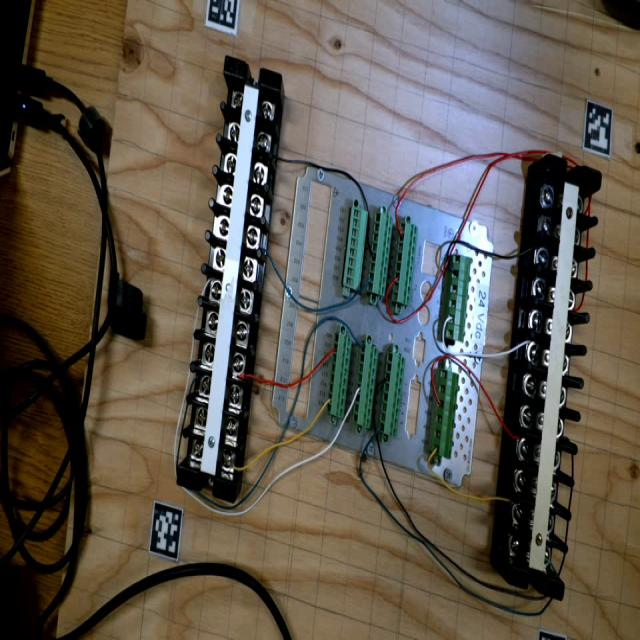Flathead_Block: (506, 154, 604, 601)
Phillips_Block: (175, 55, 284, 503)
Terminal_1: (430, 368, 459, 460), (444, 254, 471, 342)
Terminal_2: (378, 351, 406, 437), (366, 211, 394, 297), (352, 342, 379, 429), (326, 333, 353, 418), (391, 222, 418, 306)
